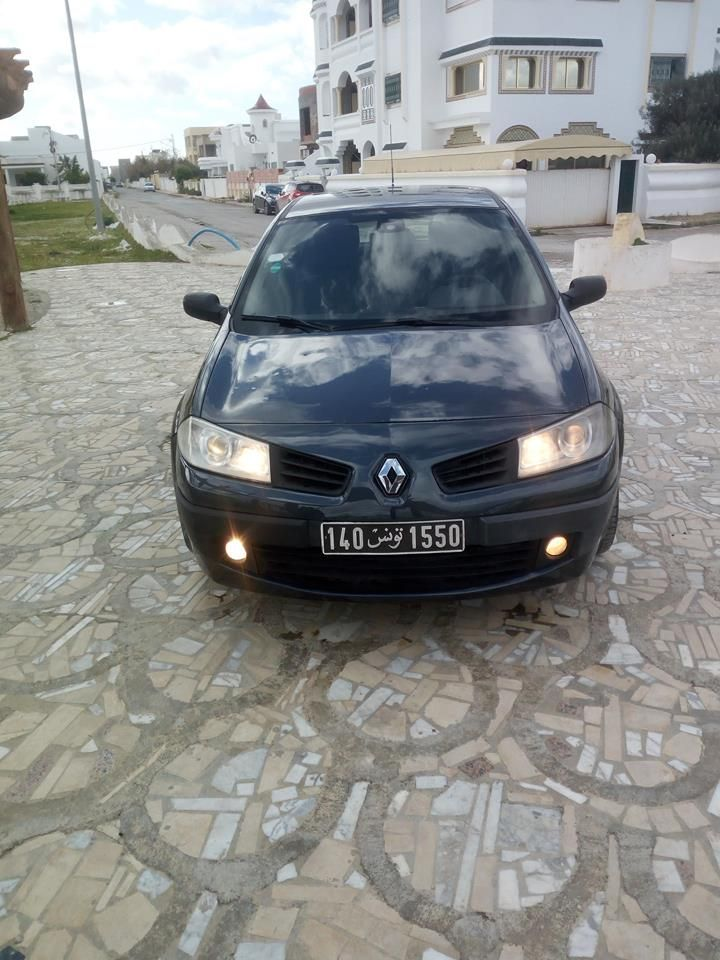LP: (320, 517, 468, 558)
